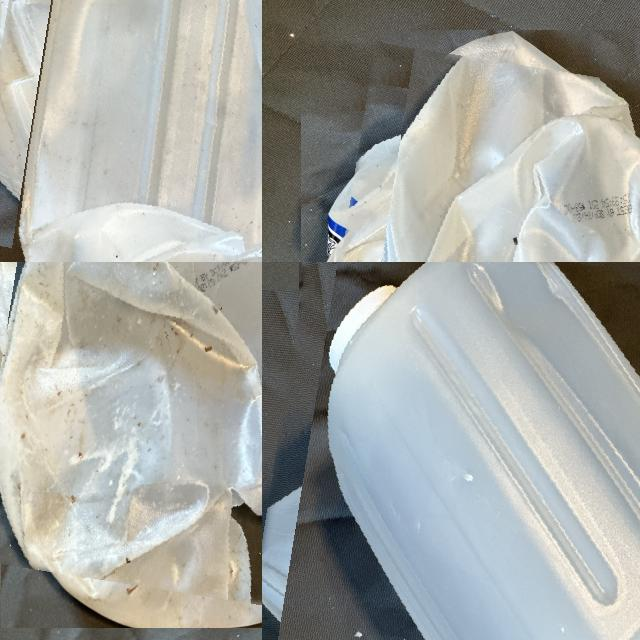milk-jug: (262, 262, 640, 640), (0, 262, 262, 603), (0, 0, 262, 262), (328, 55, 640, 262)
